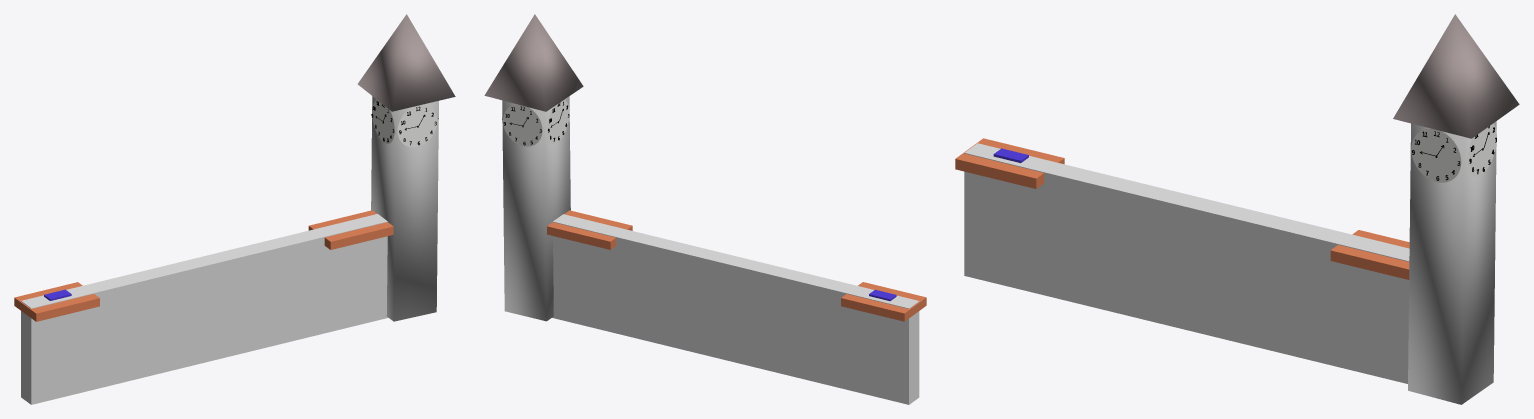
The model's file is AllCartTowerOceanTreeTest.glb.
The picture shows the model from 3 angles, left to right: view 1: azimuth 30°, elevation 25°; view 2: azimuth 150°, elevation 25°; view 3: azimuth 330°, elevation 25°; orthographic projection. The views are drawn at different scales.
Parts seen in each view (by area): view 1: Cube, clocktower, Ocean Station.001, Ocean Station; view 2: Cube, clocktower, Ocean Station.001, Ocean Station; view 3: Cube, clocktower, Ocean Station.001, Ocean Station.
Boxes of the visible parts, x1,y1,x2,y2 form: Cube: (21,214,388,404); clocktower: (357,14,455,321); Ocean Station.001: (14,282,99,321); Ocean Station: (308,210,393,249); Cube: (552,214,919,404); clocktower: (484,14,583,321); Ocean Station.001: (841,282,926,321); Ocean Station: (547,210,632,249); Cube: (964,143,1409,383); clocktower: (1393,14,1519,404); Ocean Station.001: (955,138,1064,188); Ocean Station: (1330,230,1409,279).
Bounding box in the file's own units: 231 × 158 × 35.87.
